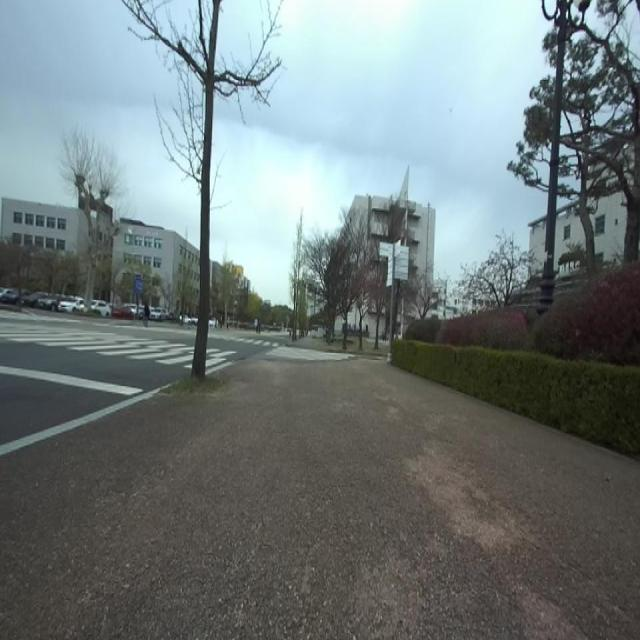sidewalk: (0, 358, 640, 639), (0, 384, 169, 456)
